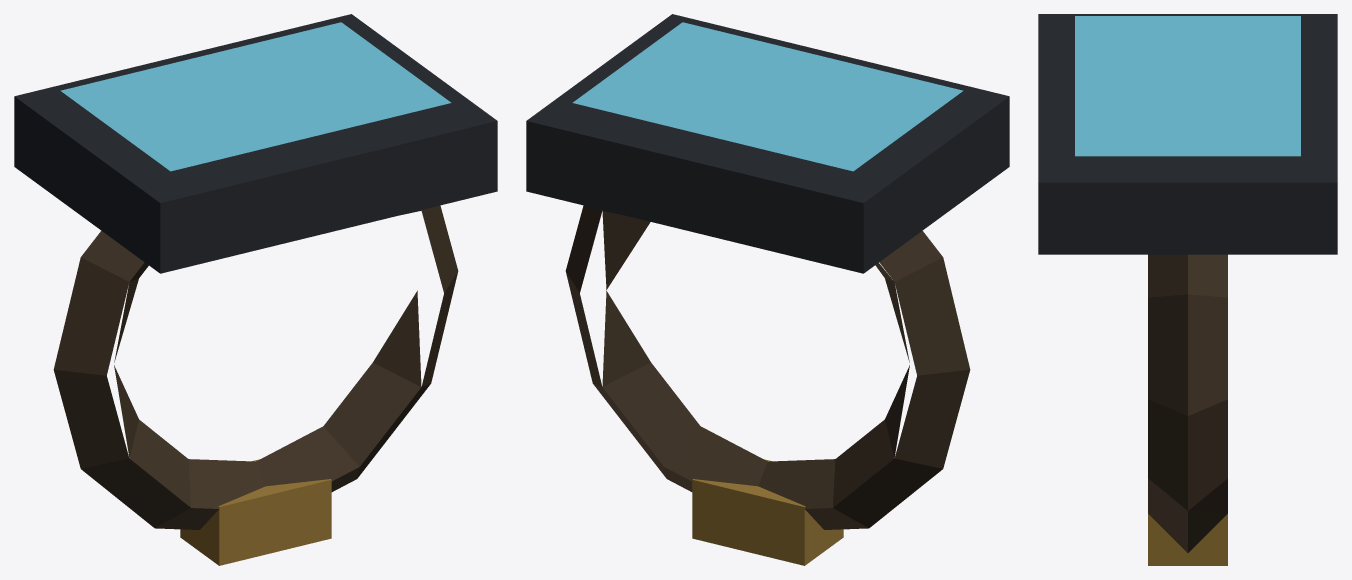
Rendered from wristpad.lod.glb.
The picture shows the model from 3 angles, left to right: view 1: azimuth 30°, elevation 25°; view 2: azimuth 150°, elevation 25°; view 3: azimuth 270°, elevation 25°; orthographic projection. The views are drawn at different scales.
Visible parts, largest first — view 1: m; view 2: m; view 3: m.
Part boxes in pixels (x1,y1,x2,y2): m: [14, 14, 497, 565]; m: [526, 14, 1009, 565]; m: [1038, 14, 1337, 565].
Bounding box in the file's own units: 0.0672 × 0.07 × 0.042.
